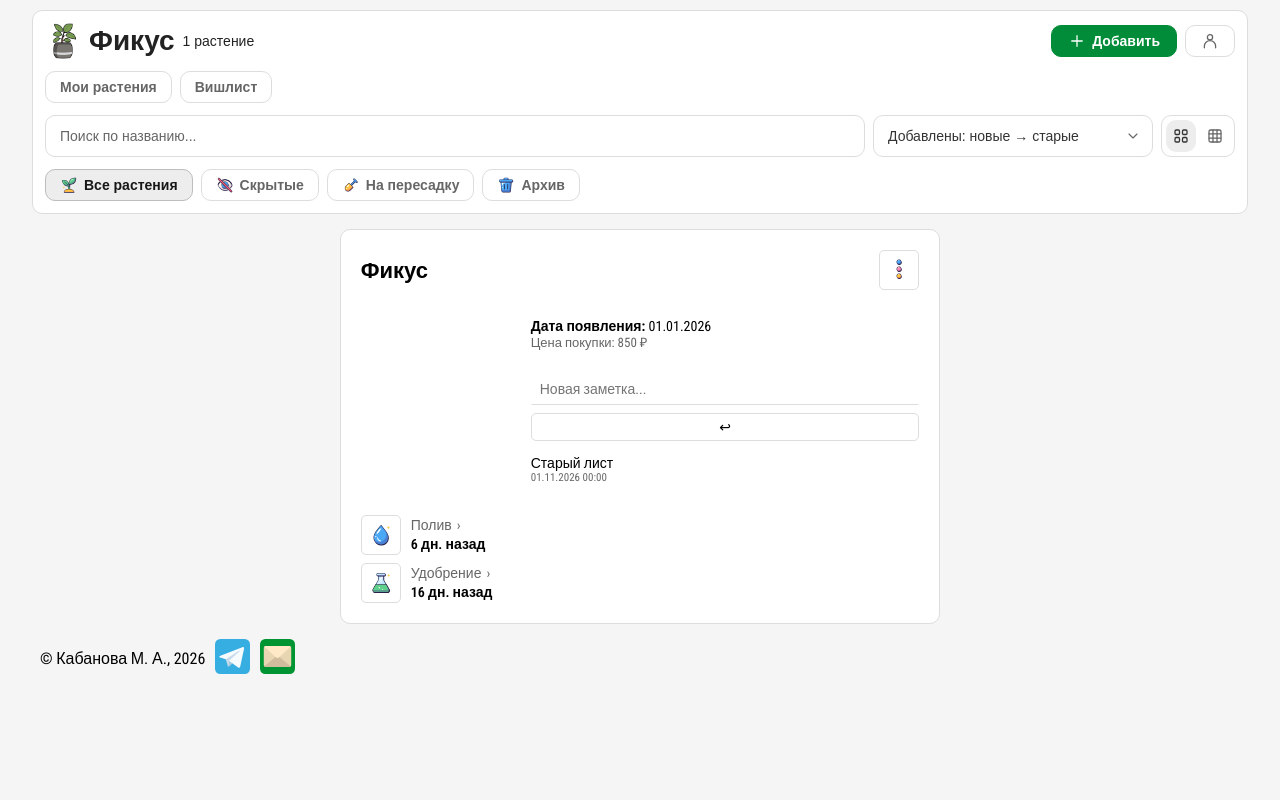
keeps the sale dialog open on error, prevents double submission and allows retry
Later steps or results of the test are not shown.
Click the button named "menu" at (899, 270), box x1=879 y1=250 x2=919 y2=290
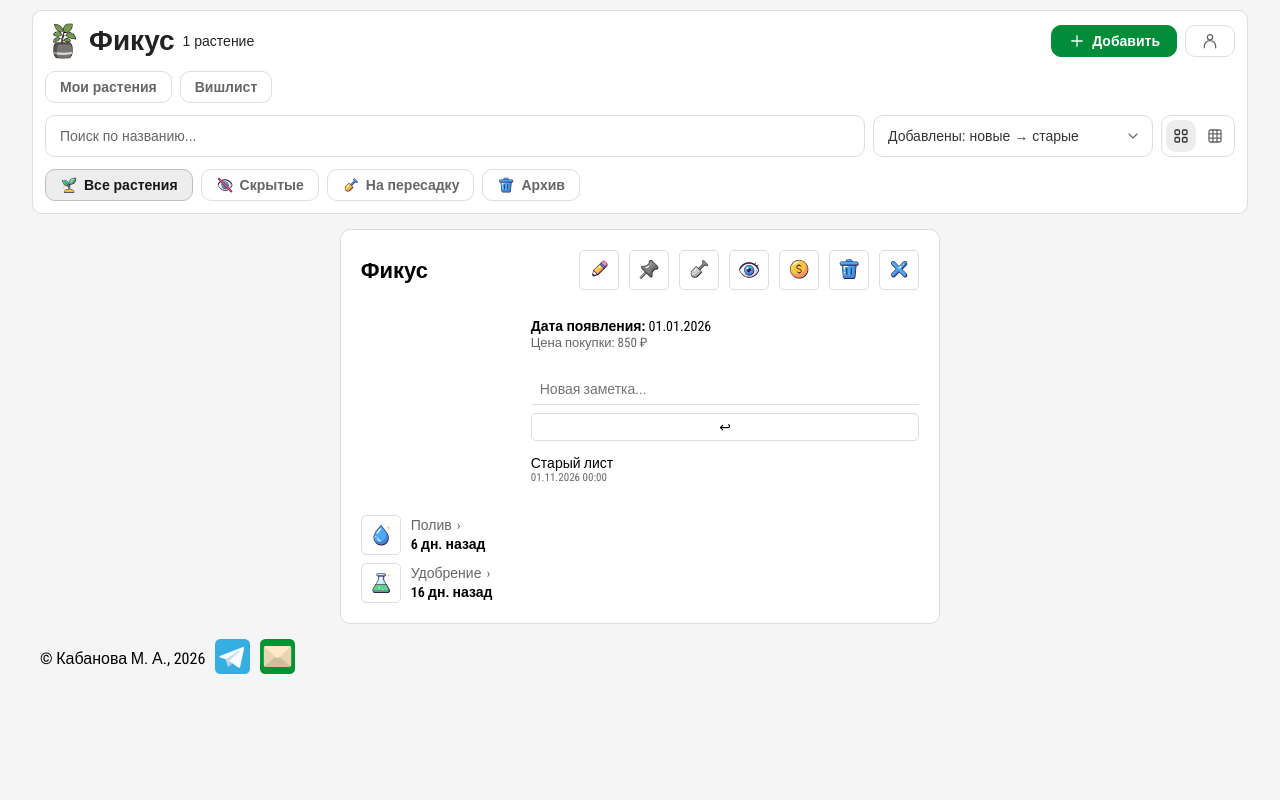
Click the button named "Продано" at (799, 270), box x1=779 y1=250 x2=819 y2=290
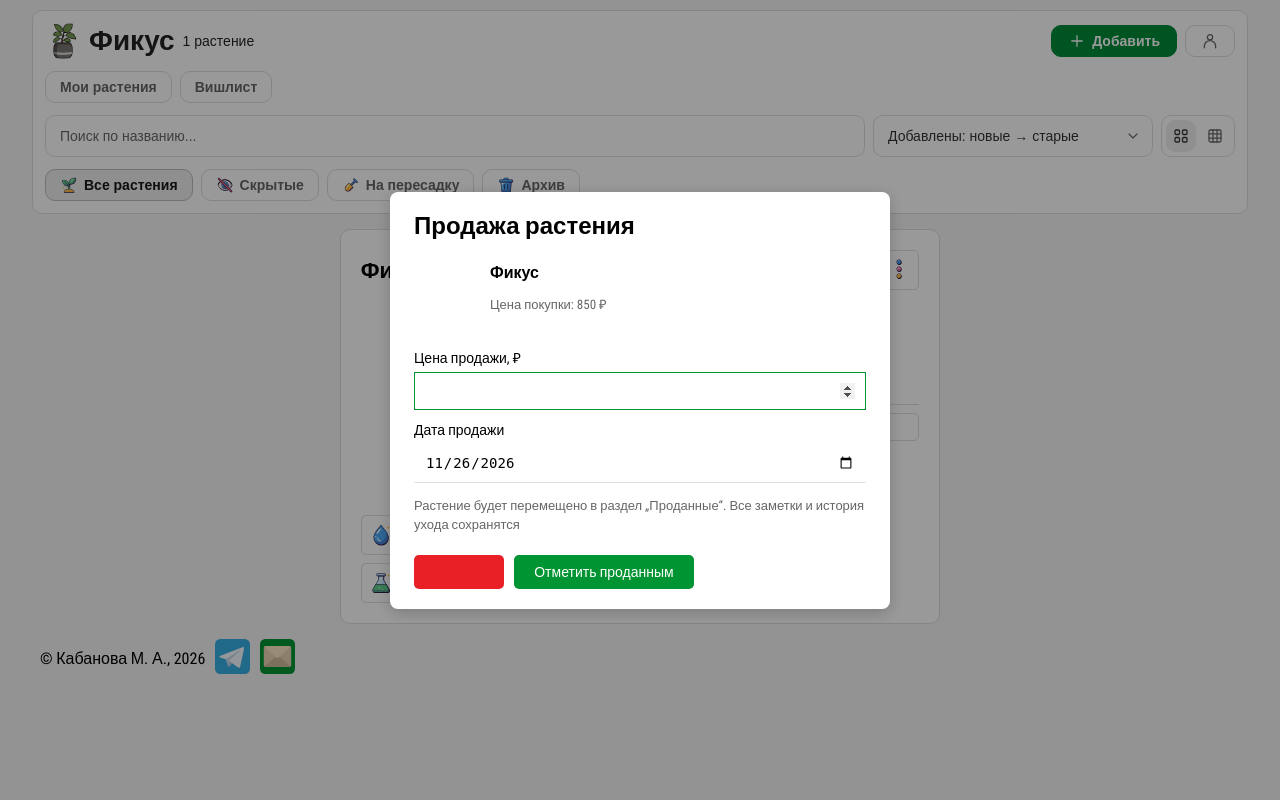
Type "0" into the number field labelled "Цена продажи, ₽" at (640, 390), box x1=414 y1=372 x2=866 y2=410
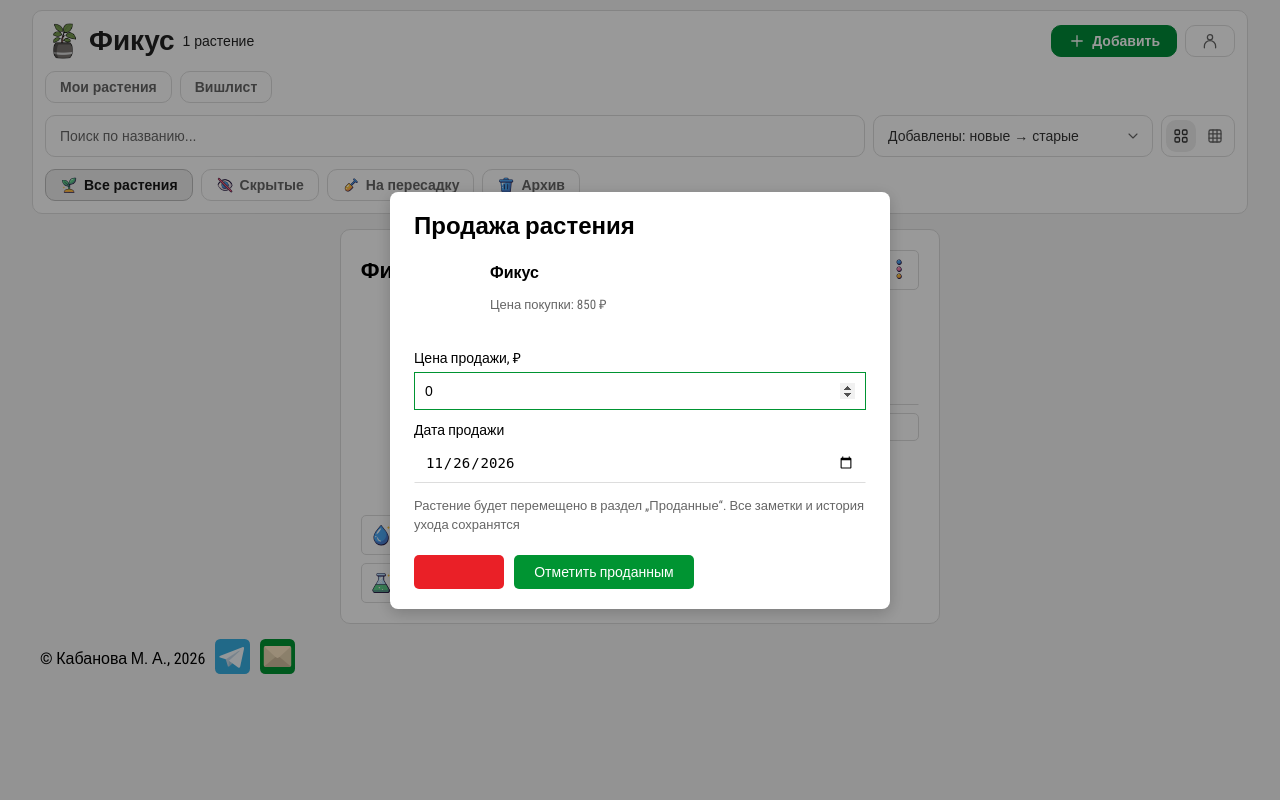
Click the button "Отметить проданным" at (604, 572), box x1=514 y1=554 x2=694 y2=588
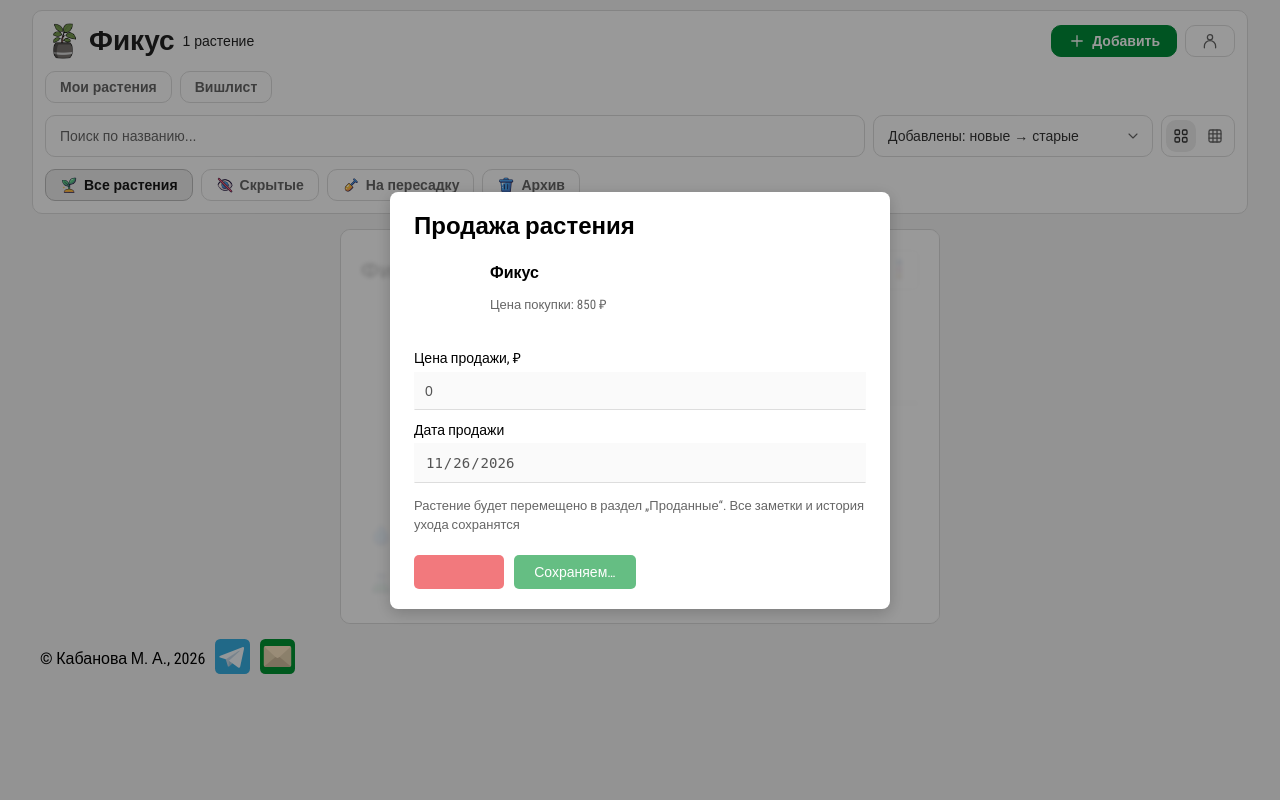
Click the button named "Отметить проданным" at (575, 572), box x1=514 y1=554 x2=636 y2=588
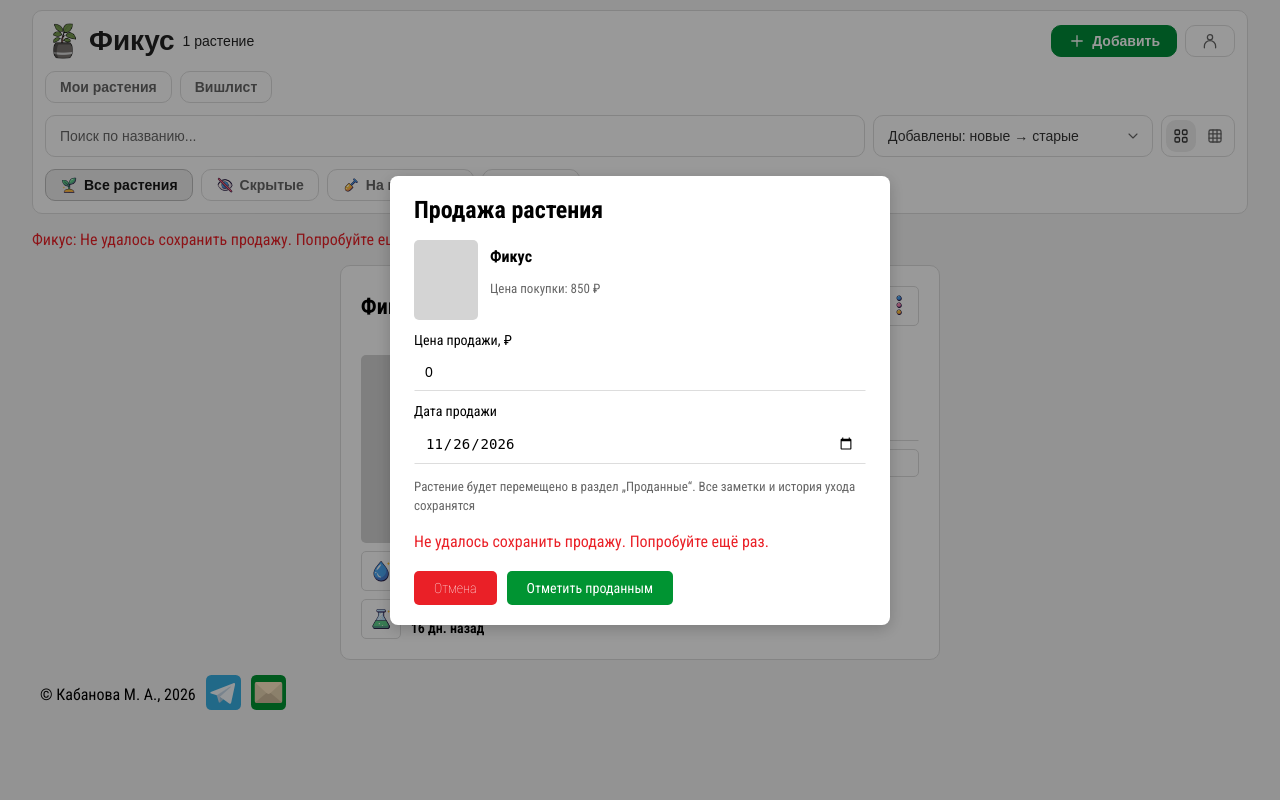
Expected: the message "Не удалось сохранить продажу. Попробуйте ещё раз." is shown, x1=414 y1=532 x2=769 y2=550
Expected: the button "Отметить проданным" is enabled
Click the button "Отметить проданным" at (590, 588), box x1=506 y1=570 x2=673 y2=604
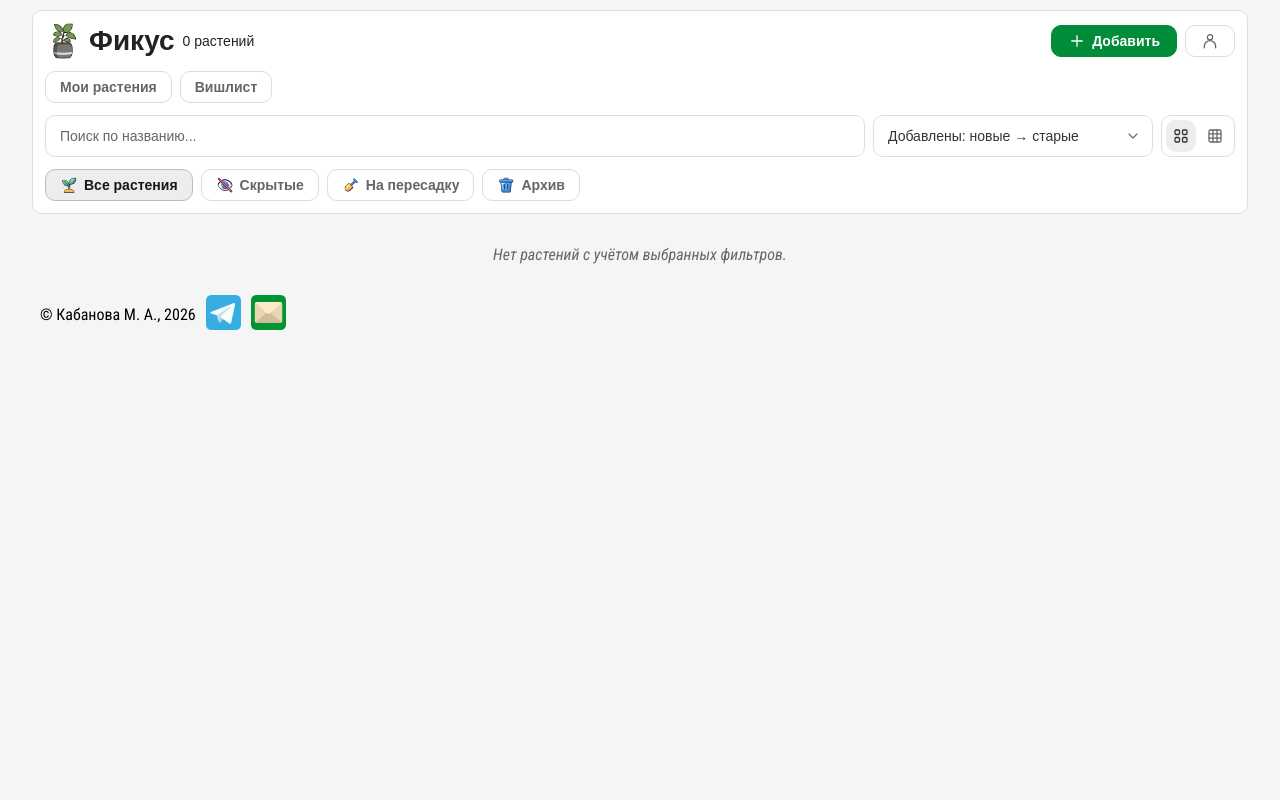
Expected: the dialog is gone
